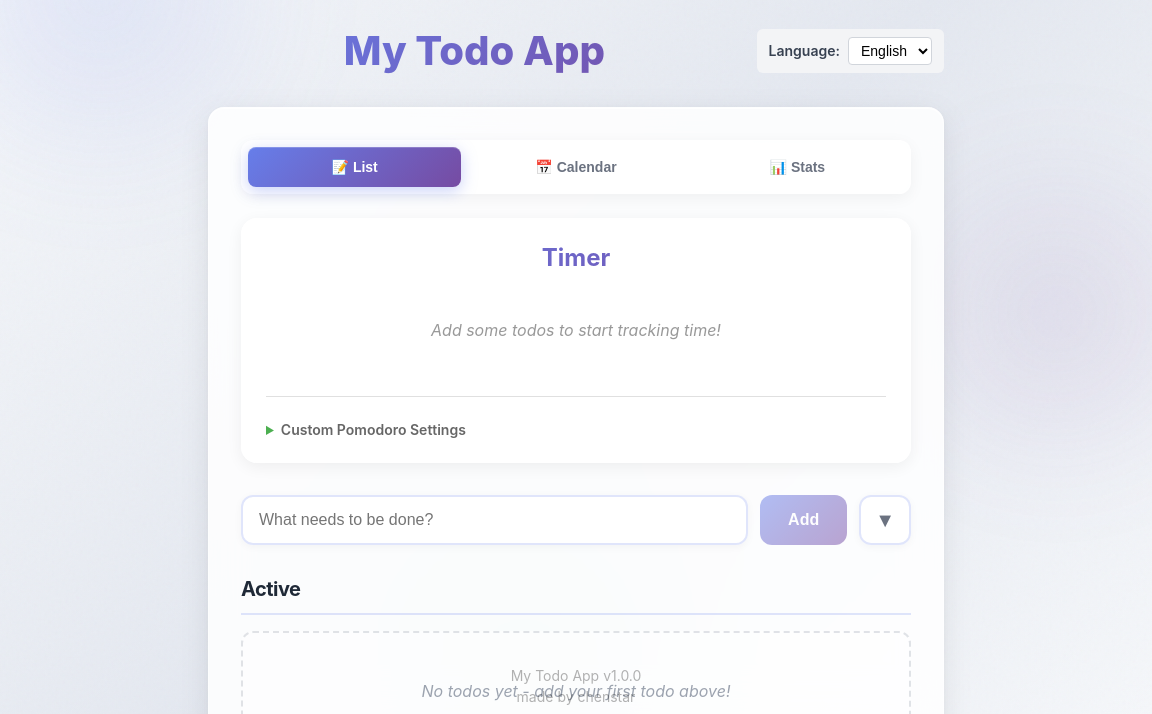
Test case: Todo App Integration - Create Todo › should handle special characters and emojis in todo description
This screenshot has width=1152, height=714.
Type "Buy milk 🥛 and eggs 🥚 (special @#$% characters)" into the field.
click(495, 520); type("Buy milk 🥛 and eggs 🥚 (special @#$% characters)")  # box [241,495,748,545]
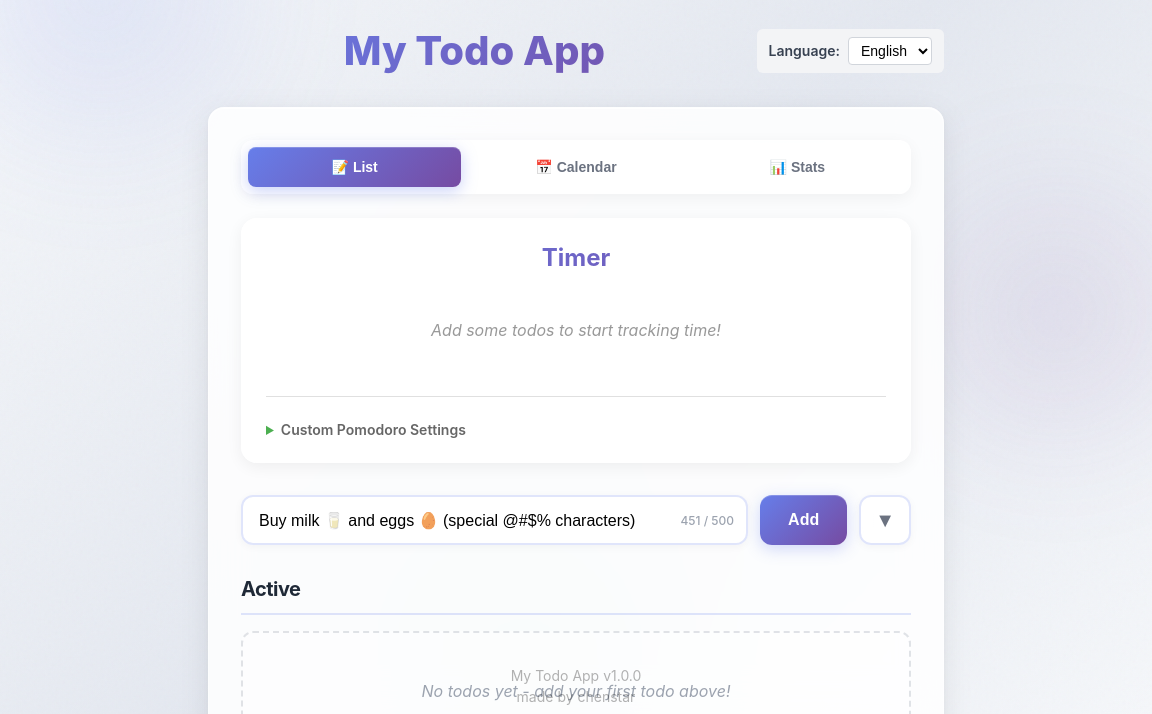
Submit the form, box [241,495,911,545]
(page scrolled)
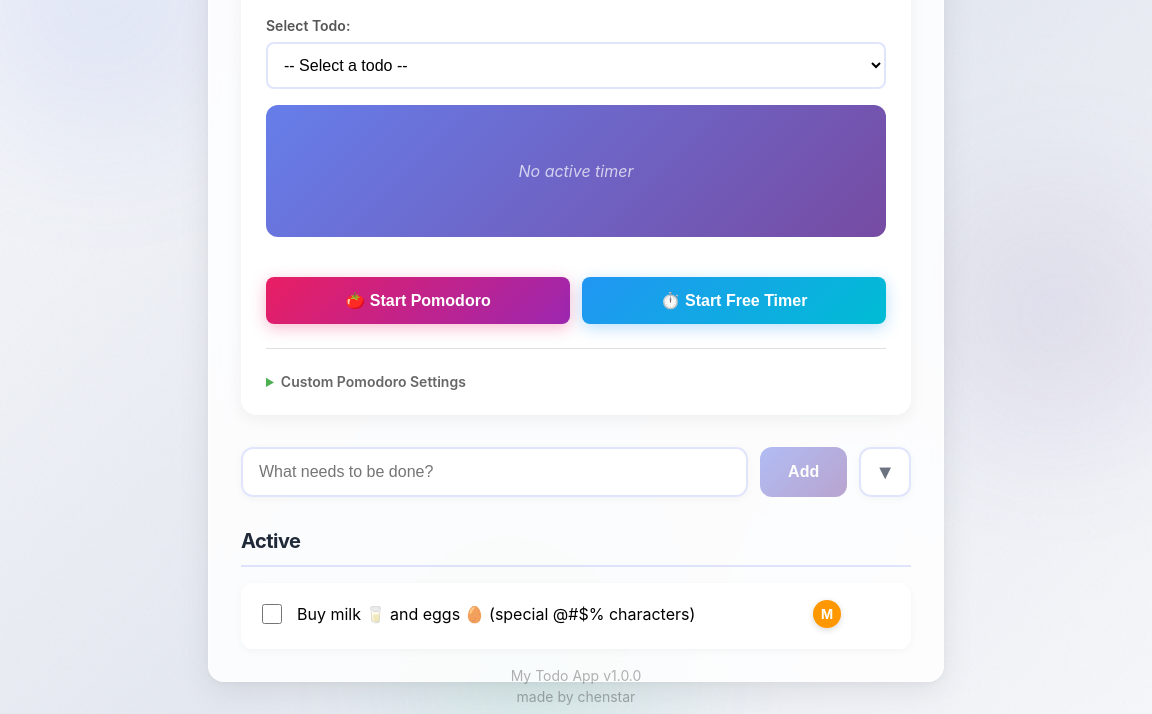
Result: the list item is shown at [241,583,911,649]
